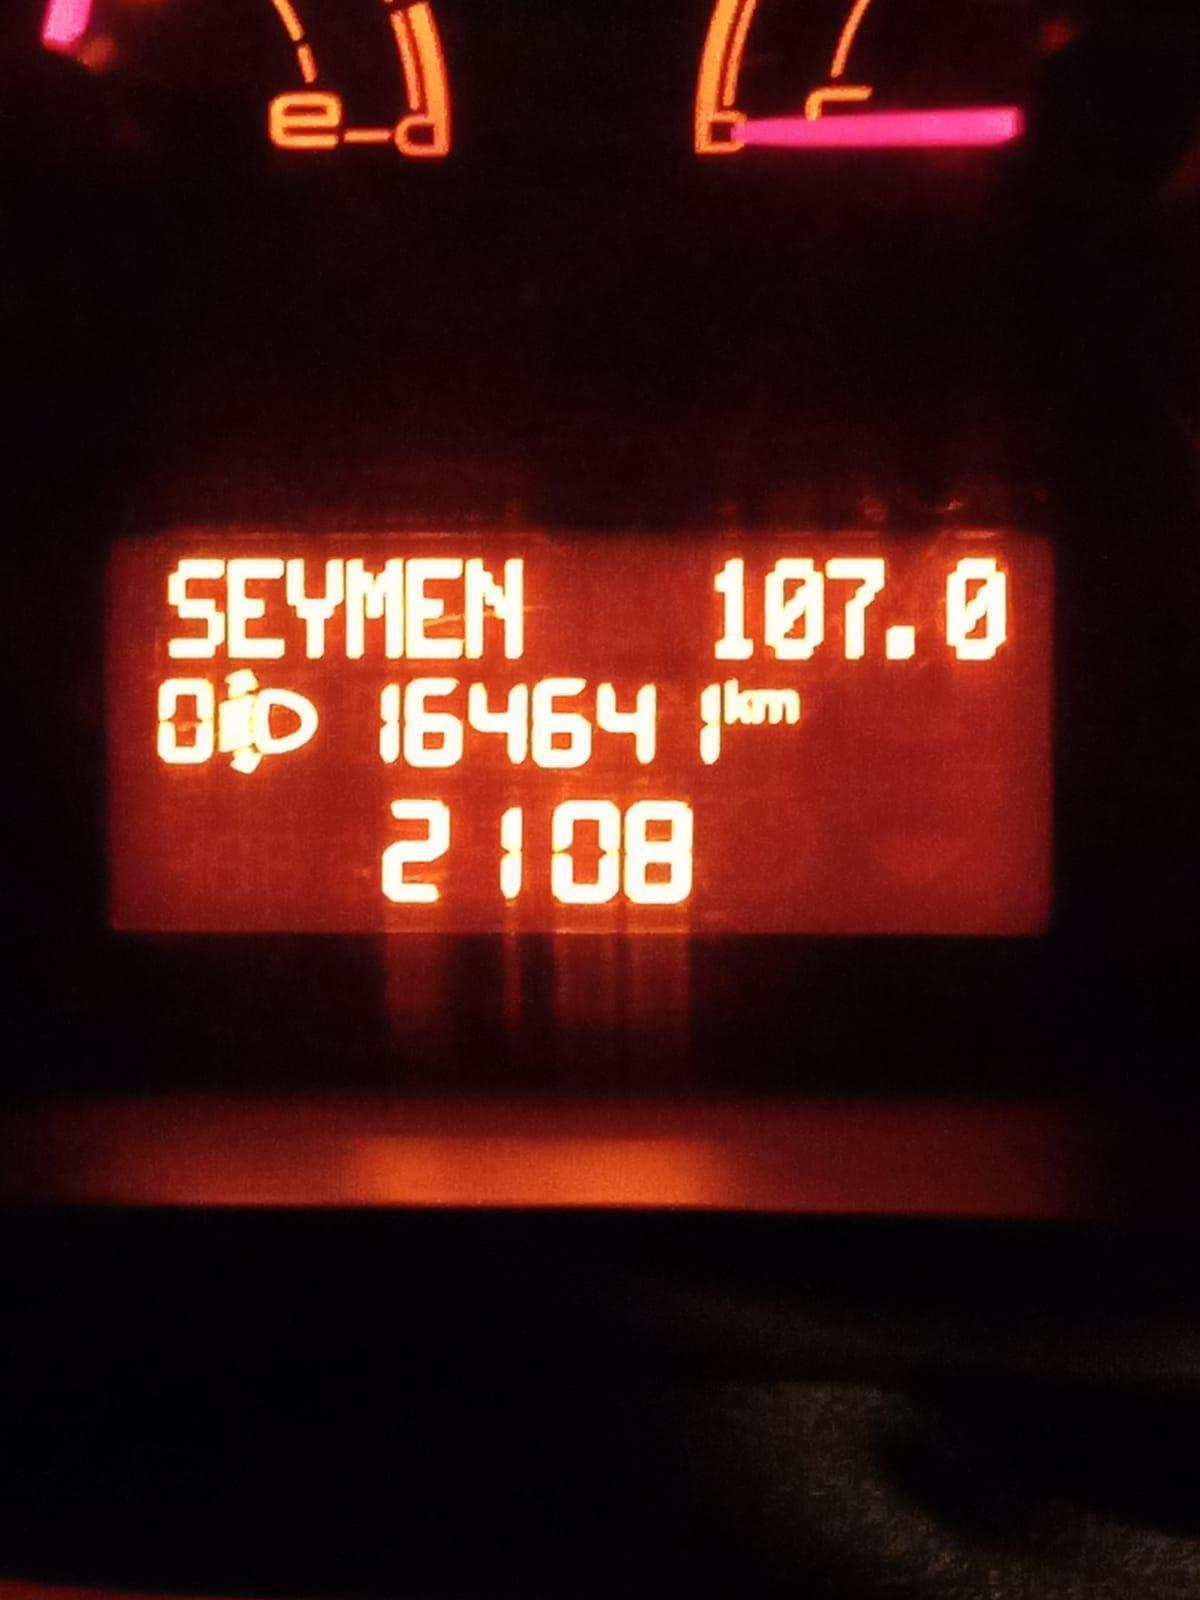,: (884, 619, 923, 670)
0: (545, 794, 623, 911), (944, 556, 1018, 666), (763, 554, 828, 666), (149, 674, 216, 769)
1: (700, 556, 754, 669), (495, 796, 531, 907), (369, 677, 402, 775), (695, 679, 726, 772)
2: (379, 795, 450, 906)
4: (595, 673, 662, 769), (463, 677, 529, 766)
6: (532, 670, 592, 774), (406, 675, 463, 776)
7: (828, 553, 887, 659)
8: (623, 792, 698, 910)
X: (463, 551, 529, 661), (165, 554, 224, 661), (345, 553, 403, 661), (407, 553, 465, 660), (227, 553, 284, 661), (286, 554, 343, 660), (753, 685, 804, 727), (722, 677, 753, 727)
odometer: (93, 518, 1064, 941)
